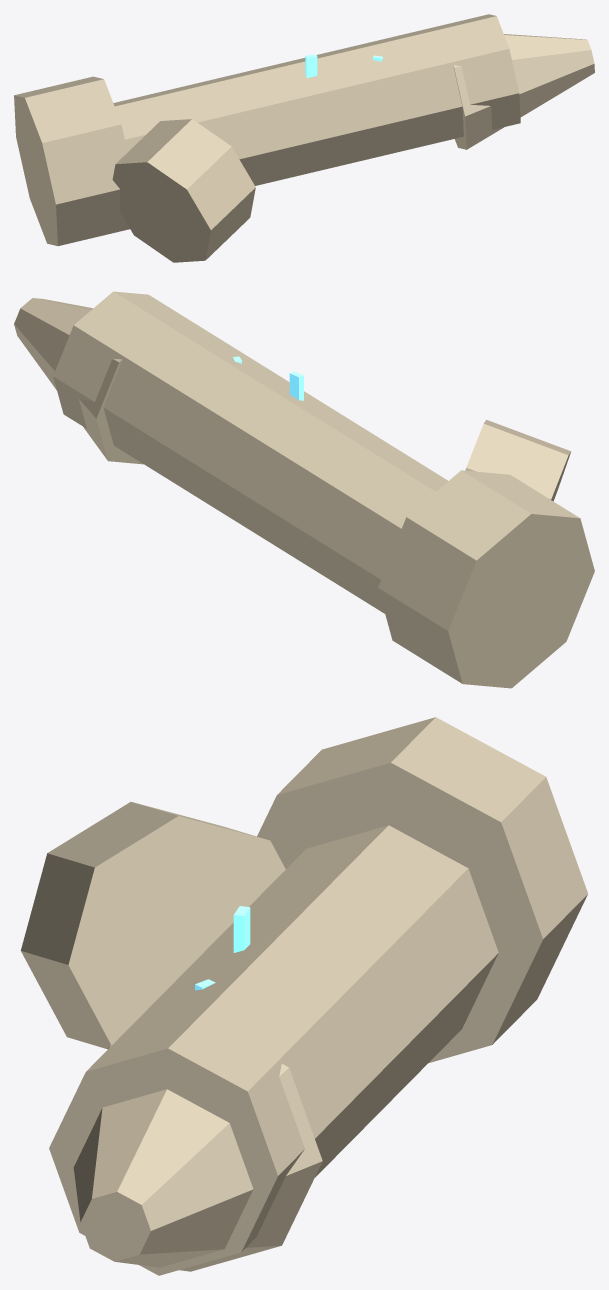
The model's file is OldBone.glb.
3 views of the same model, one above another, from view 1: azimuth 30°, elevation 25°; view 2: azimuth 150°, elevation 25°; view 3: azimuth 270°, elevation 25° (orthographic). The views are drawn at different scales.
Visible parts, largest first — view 1: OldBone_shaft, OldBone_knob_a, OldBone_knob_b, OldBone_tip; view 2: OldBone_shaft, OldBone_knob_a, OldBone_tip, OldBone_knob_b; view 3: OldBone_shaft, OldBone_knob_a, OldBone_knob_b, OldBone_tip, OldBone_glyph_a.
Boxes of the visible parts, x1,y1,x2,y2 form: OldBone_shaft: (113, 14, 520, 185); OldBone_knob_a: (14, 76, 129, 245); OldBone_knob_b: (112, 119, 255, 262); OldBone_tip: (453, 34, 594, 149); OldBone_shaft: (53, 291, 448, 613); OldBone_knob_a: (378, 470, 594, 688); OldBone_tip: (14, 298, 143, 464); OldBone_knob_b: (465, 419, 571, 501); OldBone_shaft: (49, 825, 498, 1275); OldBone_knob_a: (257, 717, 587, 1063); OldBone_knob_b: (20, 802, 285, 1049); OldBone_tip: (73, 1045, 322, 1271); OldBone_glyph_a: (233, 906, 250, 952).
Bounding box in the file's own units: 0.6308 × 0.2168 × 0.3095.
